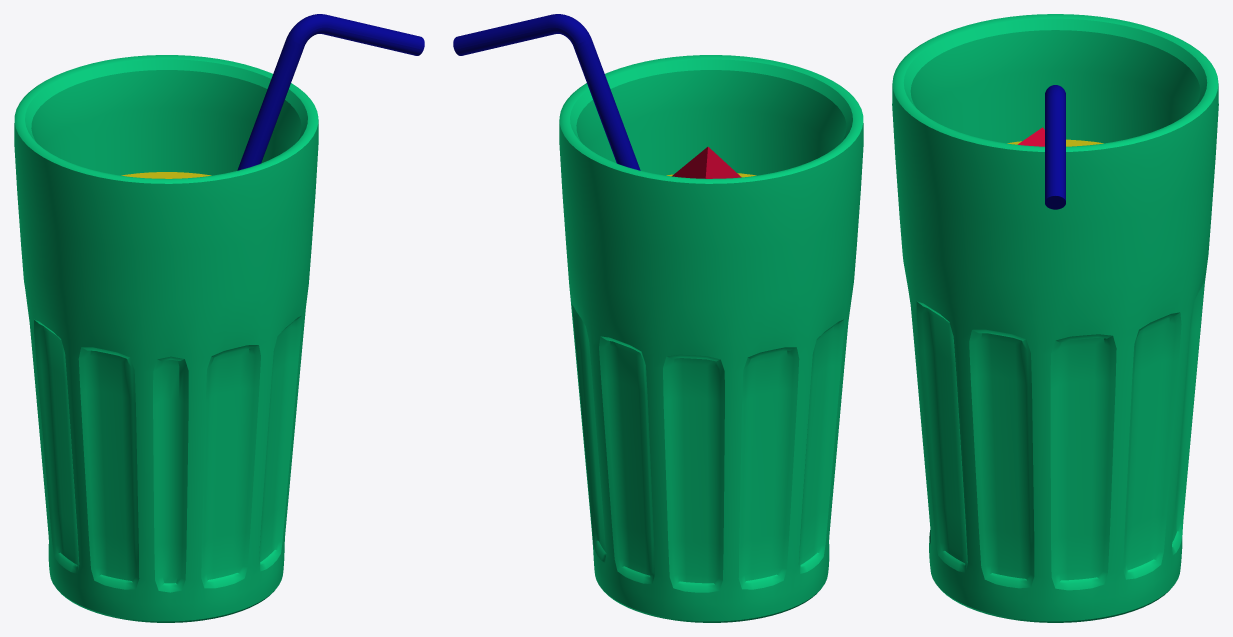
File: Ginger Ale und Ananas.fbx
The picture shows the model from 3 angles, left to right: view 1: azimuth 30°, elevation 25°; view 2: azimuth 150°, elevation 25°; view 3: azimuth 270°, elevation 25°; orthographic projection. The views are drawn at different scales.
Parts seen in each view (by area): view 1: Glas, Strohhalm; view 2: Glas, Strohhalm, Cube.003; view 3: Glas, Strohhalm.
Boxes of the visible parts, x1,y1,x2,y2 form: Glas: (14, 55, 318, 622); Strohhalm: (237, 14, 424, 170); Glas: (559, 55, 863, 622); Strohhalm: (453, 14, 640, 170); Cube.003: (672, 147, 741, 178); Glas: (892, 14, 1218, 622); Strohhalm: (1045, 85, 1065, 209).
Size of the model in its own units: 0.1775 by 0.229 by 0.1208.
